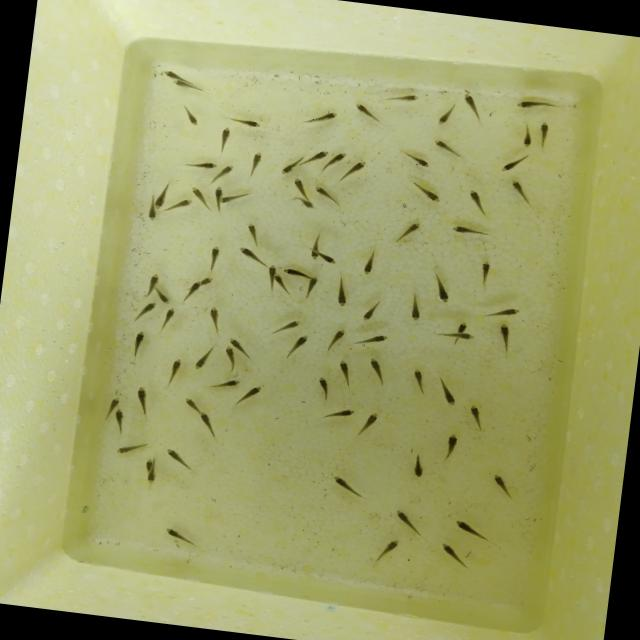fingerling: (434, 537, 476, 572), (448, 515, 498, 544), (324, 470, 368, 501), (390, 505, 430, 538), (404, 174, 446, 205), (486, 469, 522, 503), (390, 215, 428, 247), (446, 219, 498, 242), (161, 445, 199, 475), (428, 134, 468, 162), (369, 536, 404, 568), (353, 406, 385, 440), (350, 100, 387, 129), (496, 149, 534, 177), (503, 177, 538, 207), (348, 327, 391, 351), (461, 184, 491, 218), (432, 374, 462, 408), (512, 94, 560, 115), (457, 91, 487, 124), (162, 354, 188, 392), (162, 524, 200, 550), (300, 105, 342, 128), (438, 428, 464, 465), (488, 322, 518, 354), (131, 382, 155, 422), (462, 401, 492, 433), (331, 355, 360, 388), (200, 240, 228, 274), (363, 354, 391, 387), (317, 402, 358, 424), (282, 332, 312, 362), (240, 146, 266, 180), (381, 88, 424, 108), (429, 272, 454, 306), (480, 302, 522, 322), (310, 372, 336, 404), (192, 339, 218, 371), (331, 274, 354, 310), (407, 446, 430, 482), (312, 182, 346, 206), (221, 112, 266, 130), (180, 156, 220, 176), (432, 98, 458, 128), (398, 150, 435, 171), (240, 218, 266, 247), (323, 324, 348, 354), (235, 244, 269, 266), (474, 258, 496, 291), (196, 409, 220, 439), (403, 291, 425, 323), (203, 374, 240, 393), (178, 104, 205, 130), (204, 303, 226, 334), (128, 328, 148, 362), (114, 437, 148, 457), (133, 298, 158, 325), (358, 296, 383, 323), (272, 315, 304, 336), (214, 124, 234, 156), (222, 186, 254, 206), (359, 245, 378, 278), (302, 144, 328, 168), (168, 192, 196, 214), (534, 120, 554, 150), (238, 381, 264, 404), (518, 121, 537, 151), (180, 278, 201, 304), (159, 304, 178, 332), (110, 407, 129, 435), (221, 344, 238, 374), (272, 272, 292, 297), (278, 156, 301, 177), (154, 182, 171, 210), (437, 328, 476, 340), (408, 368, 426, 394), (288, 176, 310, 197), (292, 195, 318, 212), (305, 273, 322, 299), (346, 158, 368, 178), (280, 264, 309, 279), (264, 261, 278, 292), (187, 184, 209, 202), (308, 234, 322, 262), (317, 250, 338, 268), (211, 184, 224, 213), (154, 288, 176, 304), (329, 148, 348, 166), (181, 395, 201, 412), (146, 270, 164, 288), (218, 161, 235, 180), (160, 68, 182, 80), (227, 335, 246, 348), (143, 206, 158, 222), (108, 393, 124, 408), (170, 77, 188, 89), (144, 470, 158, 485), (456, 318, 470, 332), (201, 274, 217, 286), (143, 456, 153, 469)
